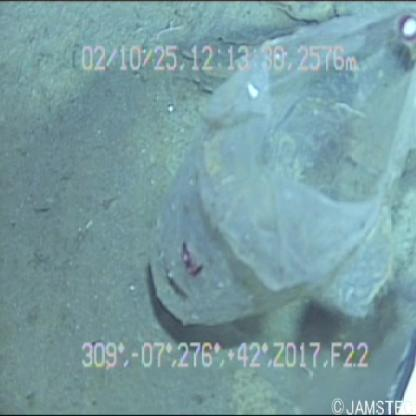Rác: (130, 2, 416, 340)
